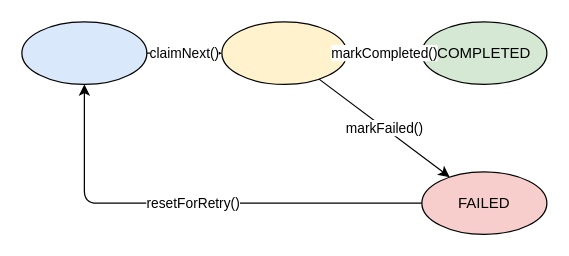
This 569x256 diagram has some shape labels left out. The shapes that lost their labels are listed below. From the top down, each one's centre as x and y in pixels, then its label:
At point 84,52: "PENDING".
At point 284,52: "PROCESSING".
